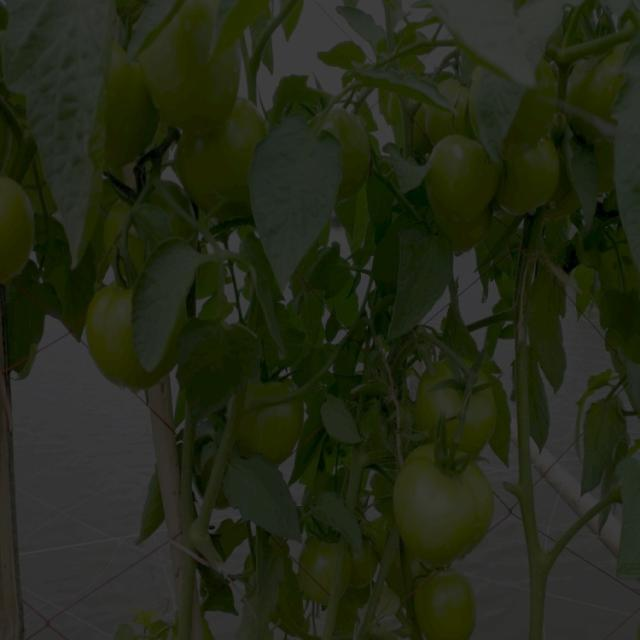tomato: (135, 5, 250, 132), (86, 282, 181, 391), (397, 459, 497, 561), (424, 139, 497, 246), (570, 37, 640, 138), (417, 361, 494, 449), (106, 181, 172, 276), (224, 381, 298, 465), (176, 138, 248, 215), (85, 45, 129, 166), (408, 571, 480, 640), (305, 531, 362, 610), (504, 144, 559, 214), (1, 178, 38, 281), (333, 111, 368, 196), (412, 85, 469, 136), (527, 52, 557, 136)
